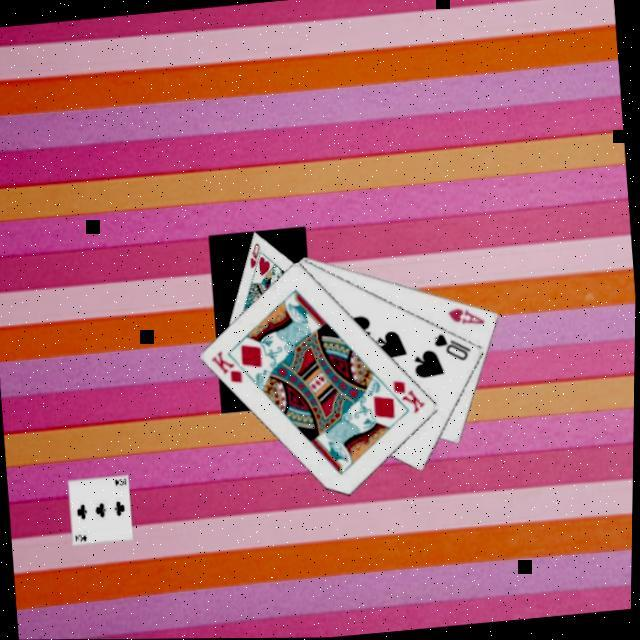10S: (429, 329, 474, 368)
AH: (443, 304, 487, 332)
KD: (388, 376, 429, 420), (206, 348, 246, 390)
